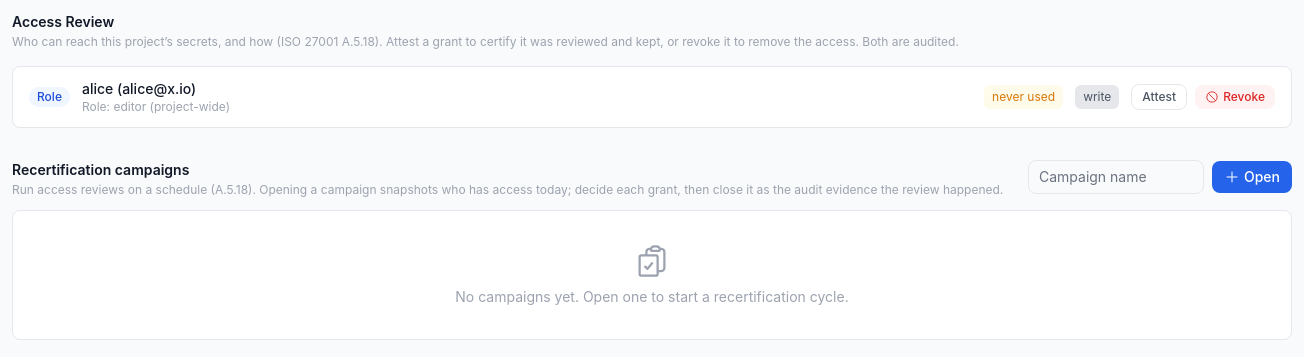
Scenario: ProjectAccessReviewTab › marks a grant Attested after a successful attest, and shows an error on failure
Click the button "Attest" at (1159,97), box left=1131, top=84, right=1187, bottom=110
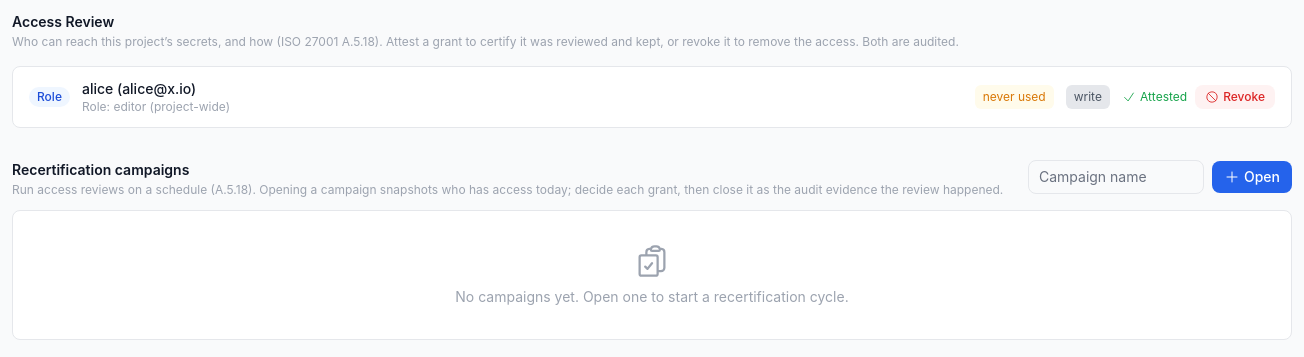
Check: the text "Attested" is shown, box left=1122, top=89, right=1187, bottom=105
